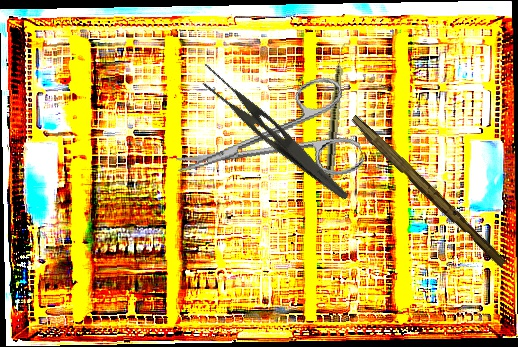Dressing Forceps: (189, 61, 362, 202)
Handpiece: (323, 40, 348, 189)
Iris Scissors: (165, 72, 366, 211)
Scalpel Handle: (346, 114, 510, 269)
